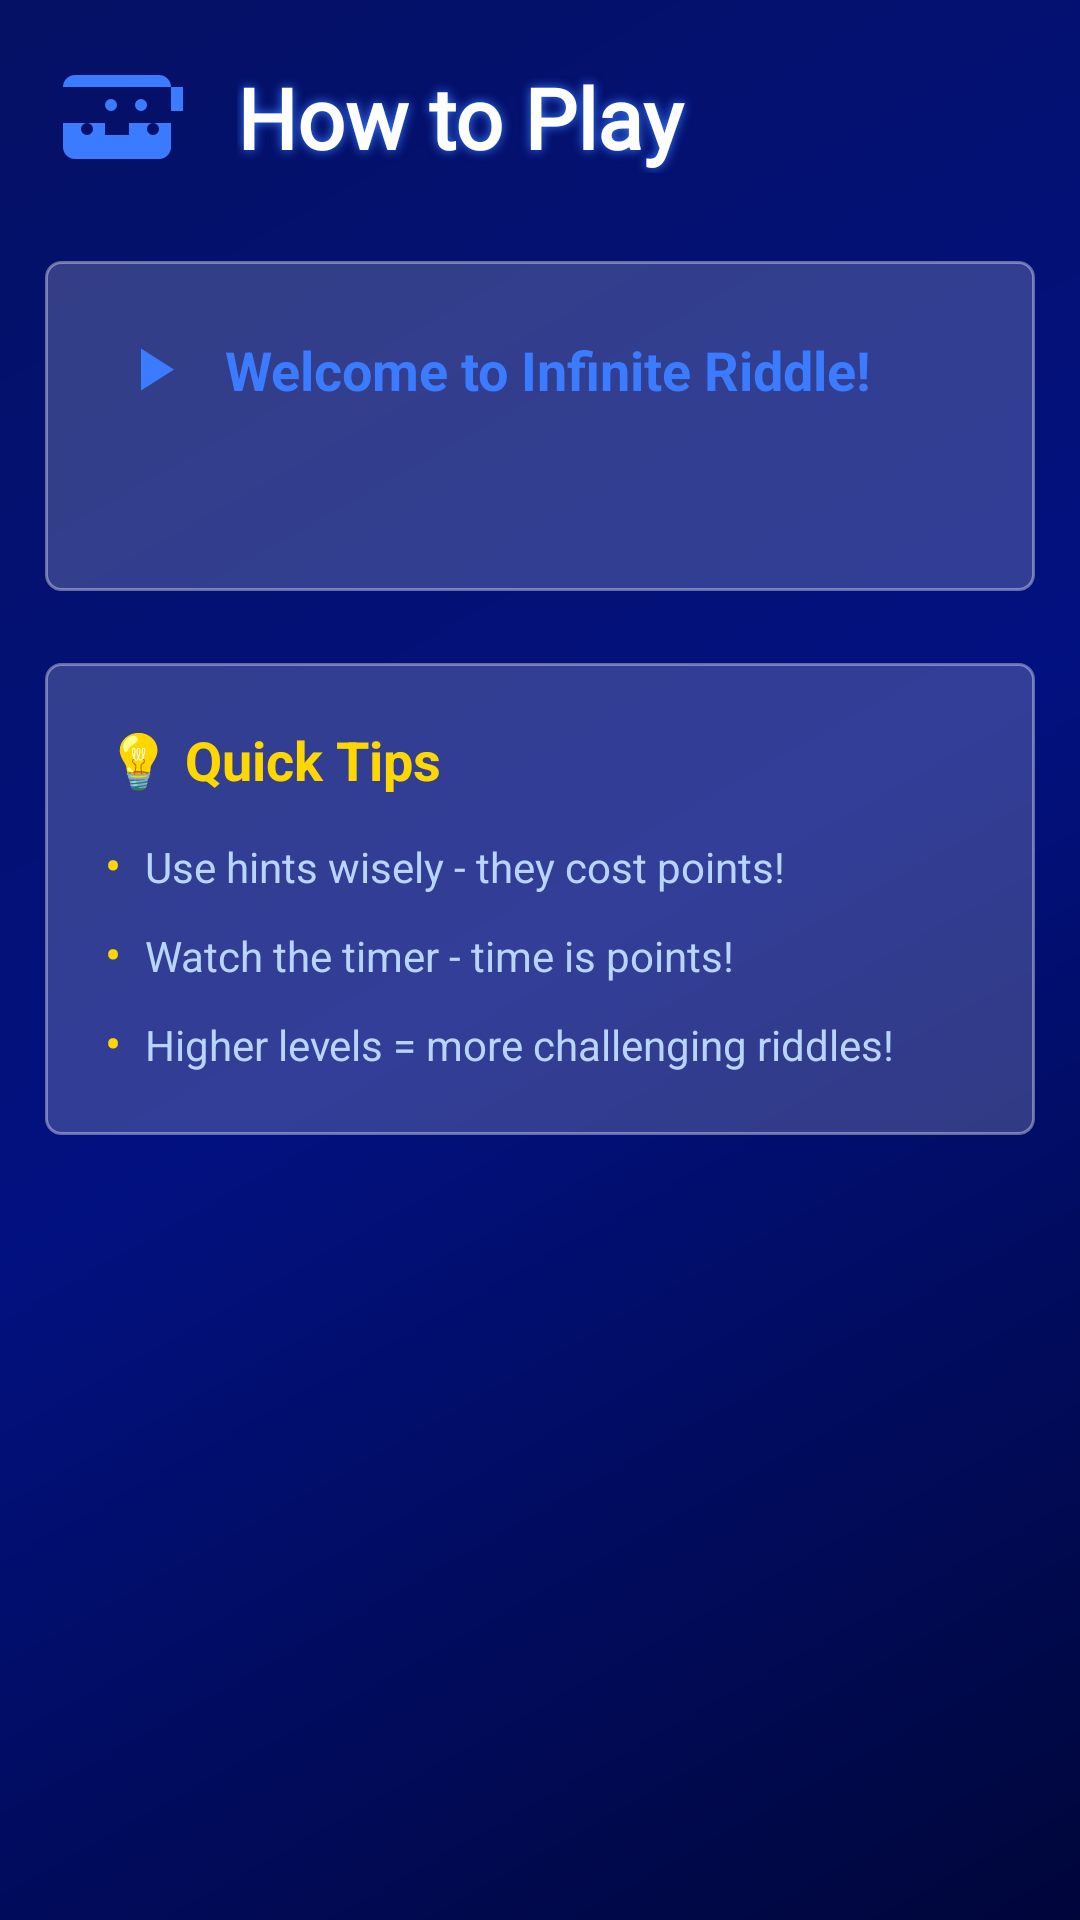

Point at icon controls on the screen. Image size 1080*1920, points as point (x, y).
gamepad: point (123, 117)
play arrow: point (157, 369)
